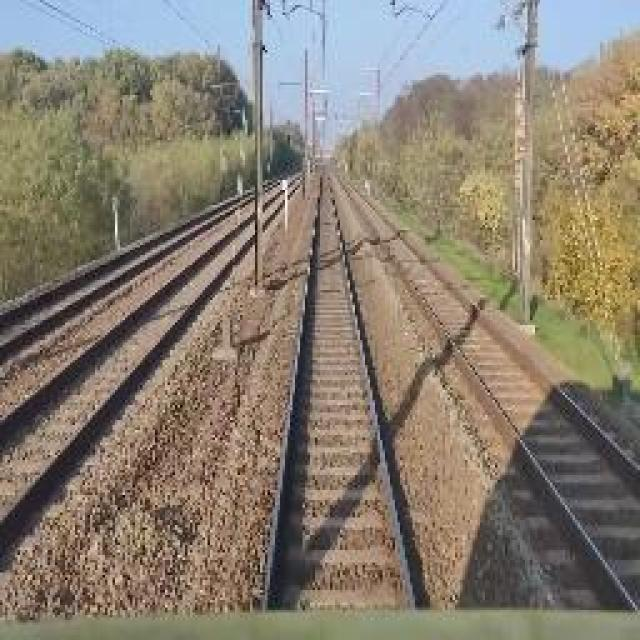rail: (330, 171, 640, 620), (1, 169, 310, 599), (236, 164, 450, 614), (1, 167, 289, 386)
